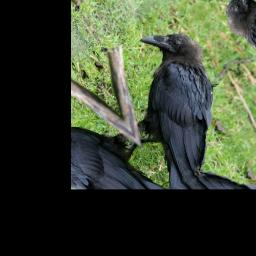Crow: (90, 14, 256, 189)
